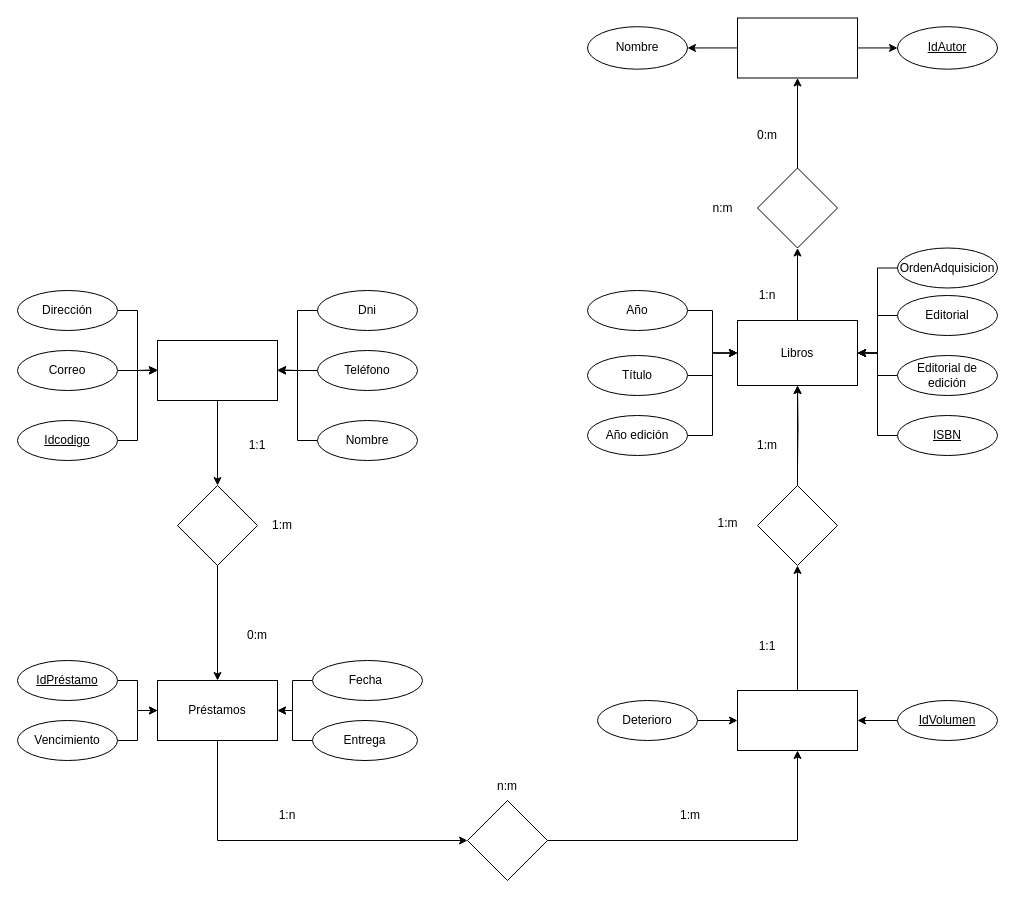
The diagram is 1015 pixels wide and 898 high, and some of its shapes have lost their labels. The shapes that lost their labels are listed below. From the top down, each one's box as (x1, y1, x2, y2) in pixels, then its label:
(736, 17, 858, 78): Autores
(756, 167, 838, 248): Escritos
(156, 340, 278, 400): Socios
(176, 484, 258, 566): Piden
(756, 484, 838, 566): Tienen
(736, 690, 858, 750): Volúmenes
(466, 800, 548, 880): Prestan
